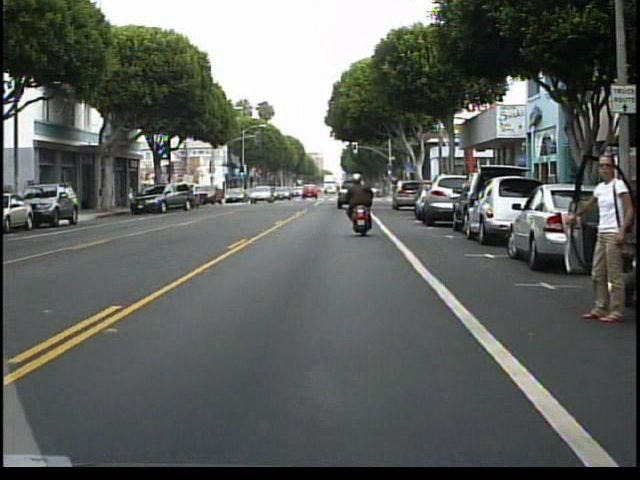person: (564, 148, 628, 323), (339, 168, 377, 233)
